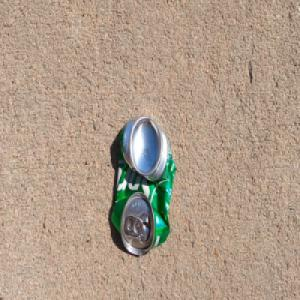SodaCan: (109, 113, 175, 258)
